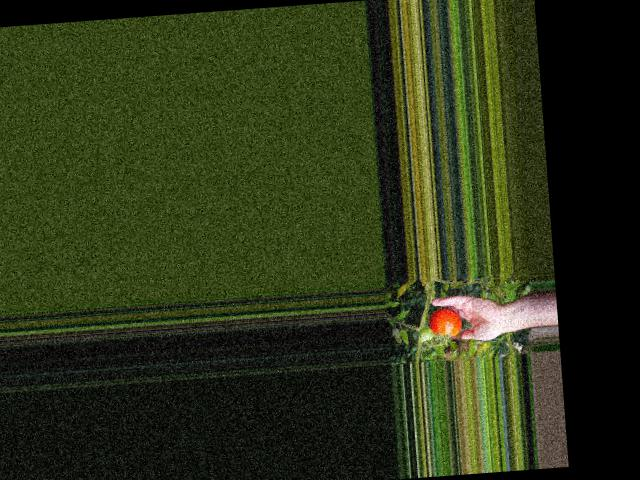tomato: (427, 307, 463, 338)
